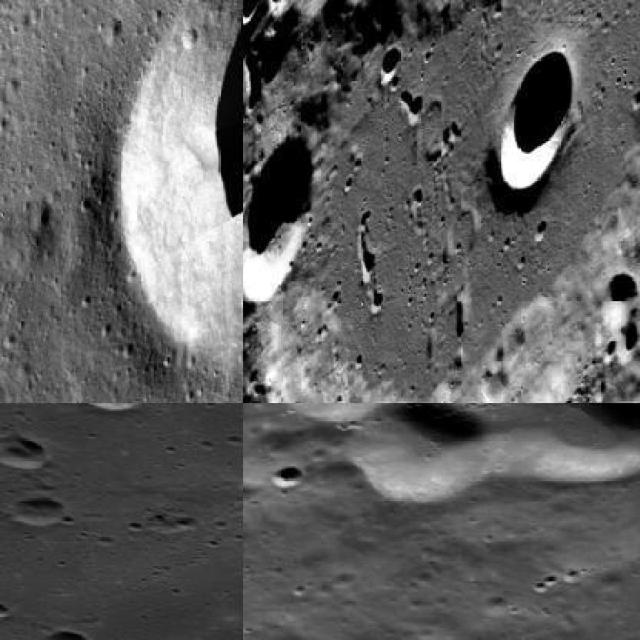crater: (113, 0, 241, 355), (350, 403, 488, 505), (243, 134, 319, 301), (486, 403, 639, 483), (500, 52, 577, 191), (284, 403, 394, 425), (600, 272, 638, 330), (0, 437, 48, 469), (12, 499, 68, 526), (270, 466, 304, 491), (74, 403, 143, 411), (45, 632, 89, 638), (0, 603, 11, 620)
